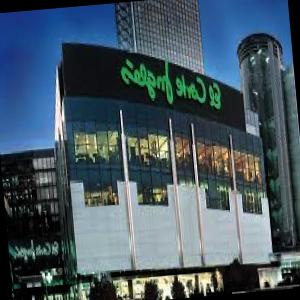corte_ingles: (100, 52, 237, 127)
